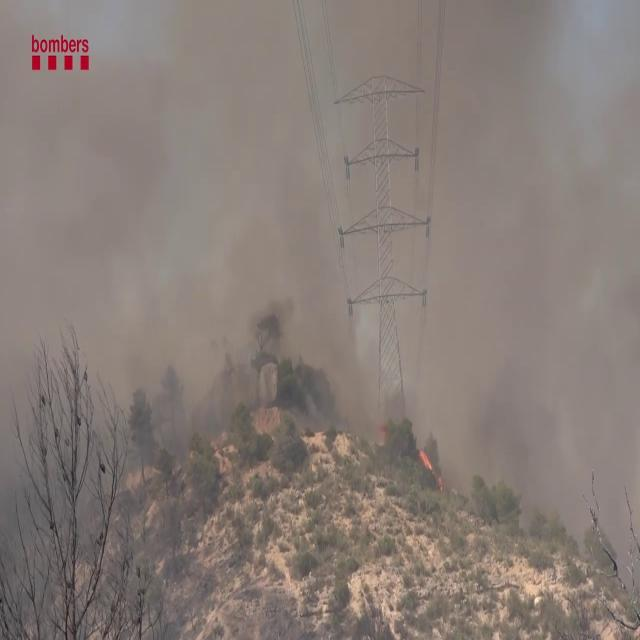Fire: (417, 441, 435, 477)
Smoke: (0, 1, 352, 602), (429, 1, 640, 614)
